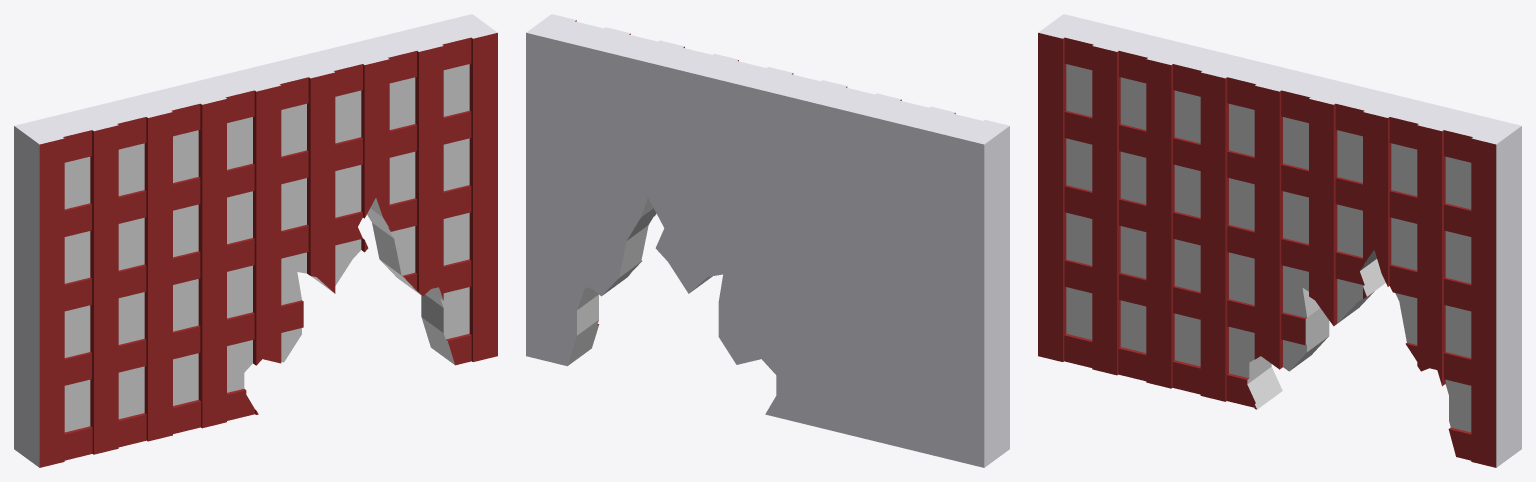
Rendered from Asian_Prop_Building_Modular_Wall_Lattice_Damaged_02.FBX.
3 renders of one model, left to right at view 1: azimuth 30°, elevation 25°; view 2: azimuth 150°, elevation 25°; view 3: azimuth 330°, elevation 25°, orthographic.
Visible parts, largest first — view 1: Asian_Prop_Building_Modular_Wall_Lattice_Damaged_02; view 2: Asian_Prop_Building_Modular_Wall_Lattice_Damaged_02; view 3: Asian_Prop_Building_Modular_Wall_Lattice_Damaged_02.
Part boxes in pixels (x1,y1,x2,y2): Asian_Prop_Building_Modular_Wall_Lattice_Damaged_02: (14, 14, 497, 467); Asian_Prop_Building_Modular_Wall_Lattice_Damaged_02: (526, 14, 1009, 467); Asian_Prop_Building_Modular_Wall_Lattice_Damaged_02: (1038, 14, 1521, 467).
Bounding box in the file's own units: 5167 × 3485 × 500.
